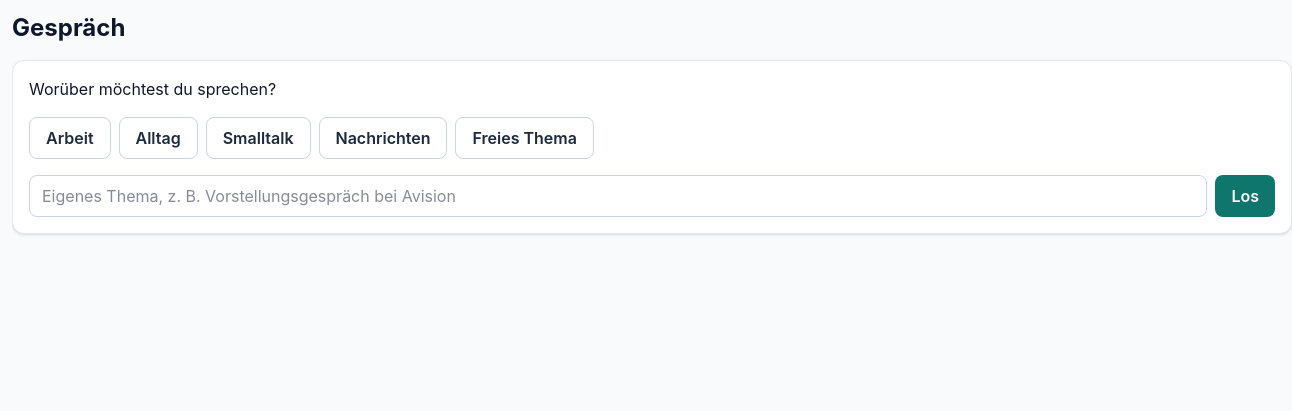
Scenario: Gespräch › a long permission prompt shows the friendly hint instead of "Zu kurz"
Click the button "Arbeit".
click(70, 138)  # box [29,117,110,159]
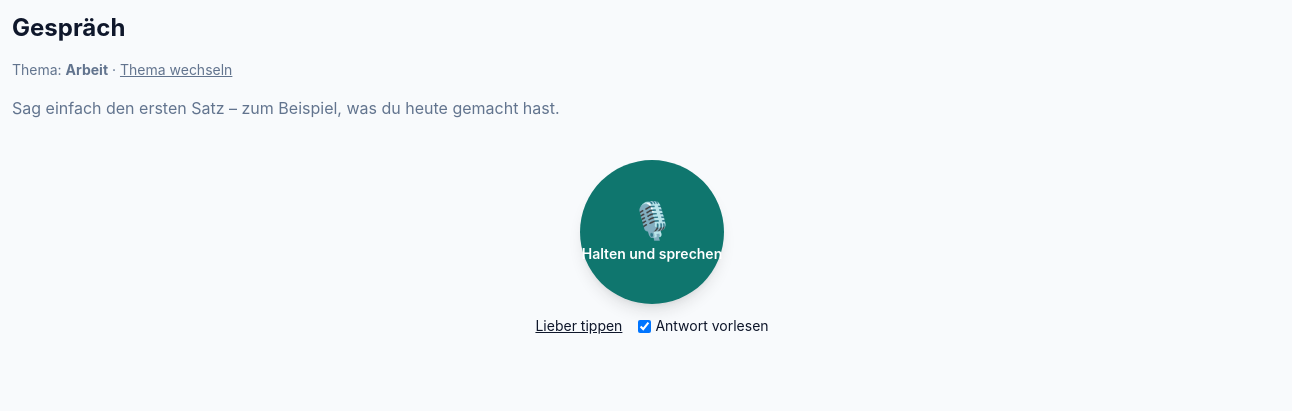
Now the button "🎙️ Halten und sprechen" is shown
Press the mouse on the button "🎙️ Halten und sprechen" at [652, 232], box [580,160,724,304]
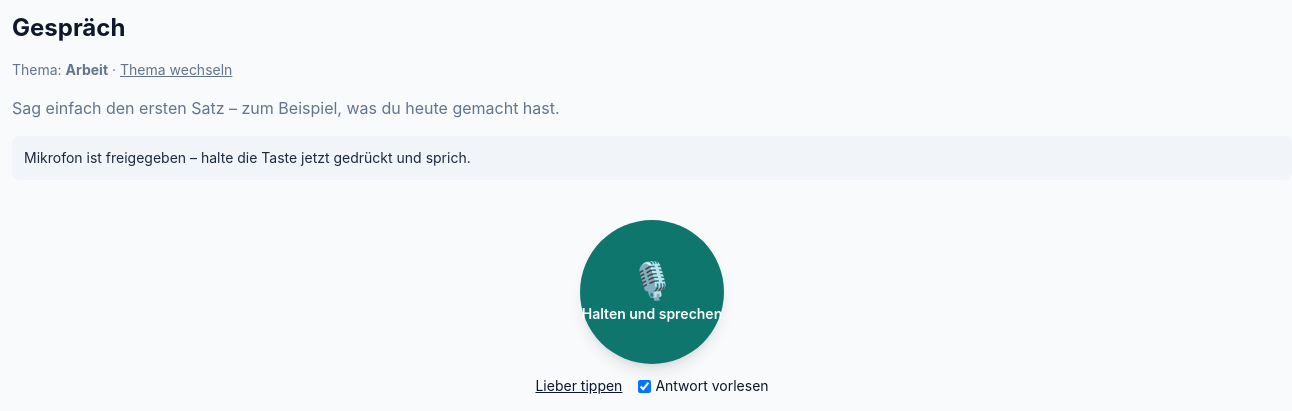
Now the message shows "Mikrofon ist freigegeben", box [24,149,471,166]
